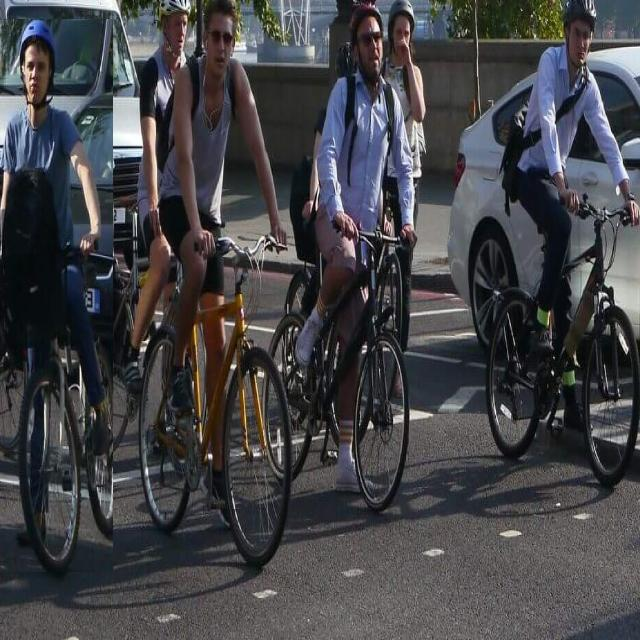bicycle: (139, 0, 291, 566), (486, 0, 640, 485), (270, 0, 416, 510), (0, 20, 113, 572)
